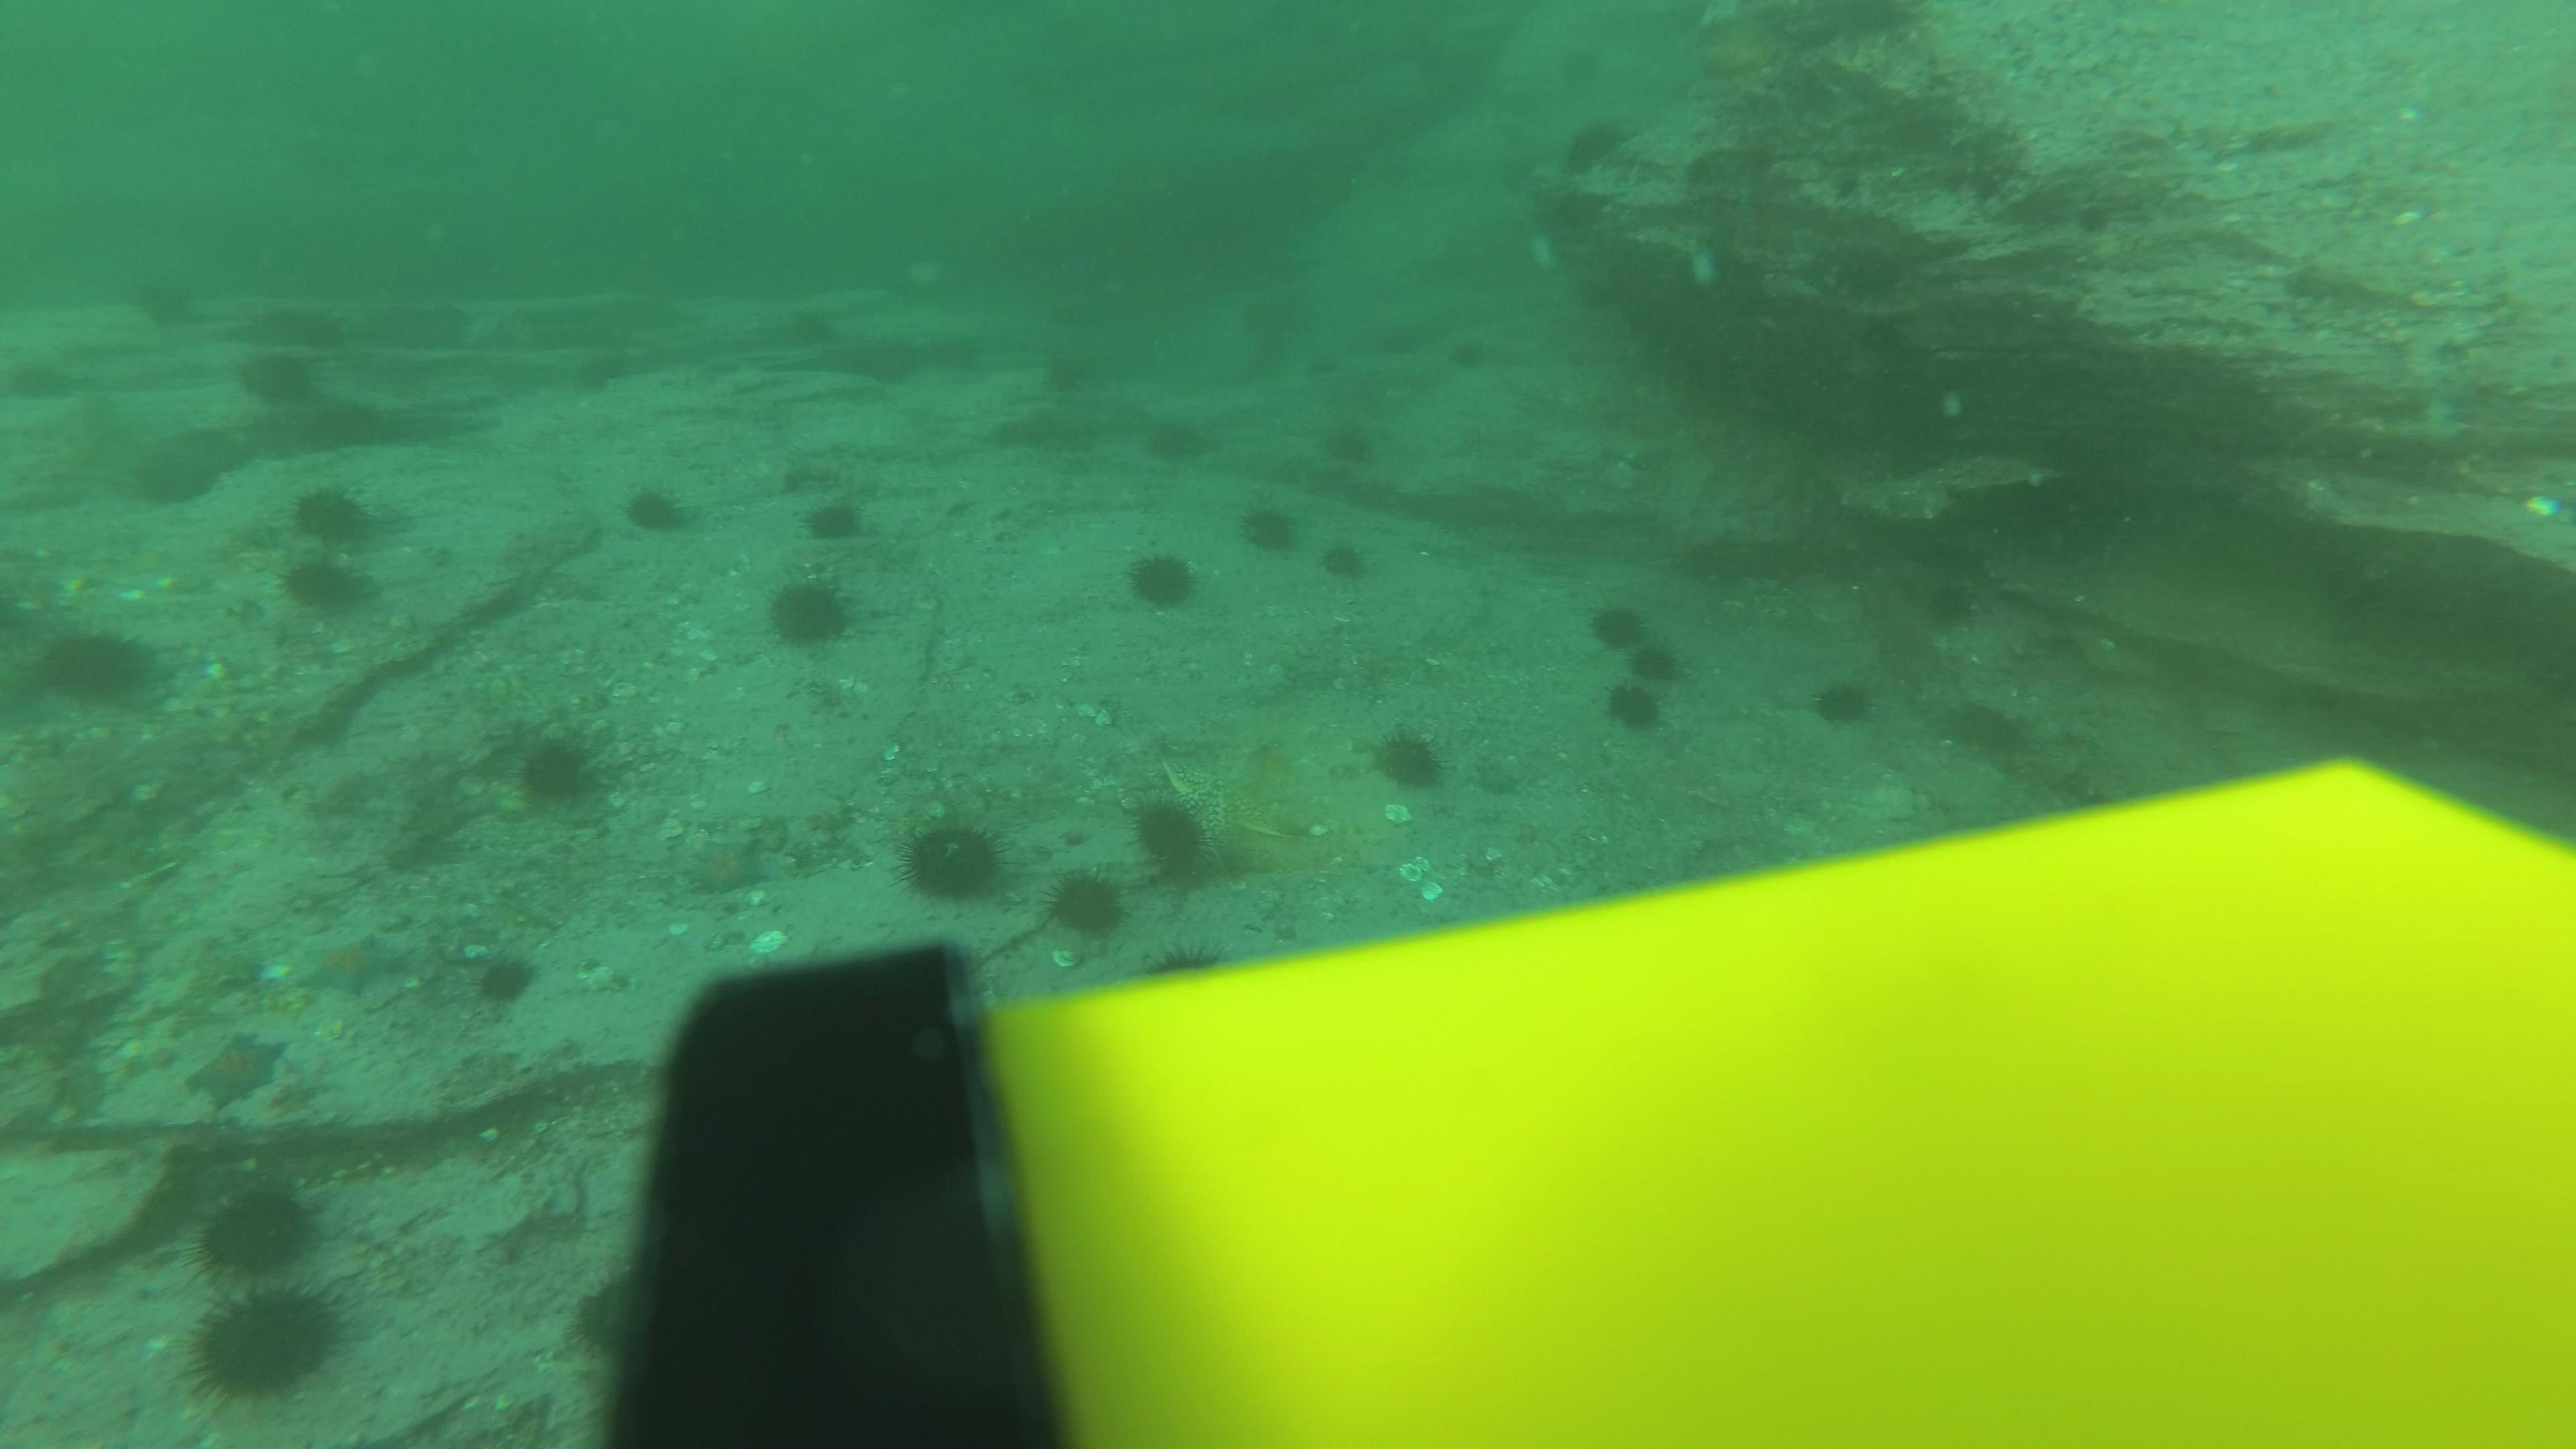echinus: (180, 1279, 347, 1407), (189, 1177, 322, 1284), (1122, 784, 1244, 893), (30, 616, 165, 713), (893, 809, 1014, 909), (499, 720, 614, 819), (280, 478, 386, 561), (127, 426, 230, 511), (763, 570, 858, 655), (1937, 692, 2035, 770), (1042, 863, 1132, 947), (232, 340, 327, 414), (1366, 720, 1454, 796), (1582, 591, 1670, 667), (272, 550, 372, 614), (1120, 541, 1203, 616), (464, 941, 545, 1014), (1913, 561, 1989, 635), (1553, 111, 1633, 180), (1136, 407, 1215, 471), (1806, 667, 1881, 732), (619, 478, 697, 540), (798, 488, 872, 548), (1235, 497, 1304, 559), (1316, 533, 1376, 589), (1316, 419, 1376, 474), (1445, 327, 1506, 382), (1596, 686, 1658, 736), (1040, 350, 1104, 398), (1629, 639, 1690, 688), (780, 306, 832, 361), (867, 338, 918, 391), (1371, 317, 1419, 370), (1242, 290, 1286, 331), (1240, 343, 1286, 382), (575, 361, 617, 402), (1302, 343, 1343, 377)
starfish: (1143, 725, 1292, 876), (283, 924, 419, 1003), (180, 1026, 294, 1109), (672, 824, 771, 901)
